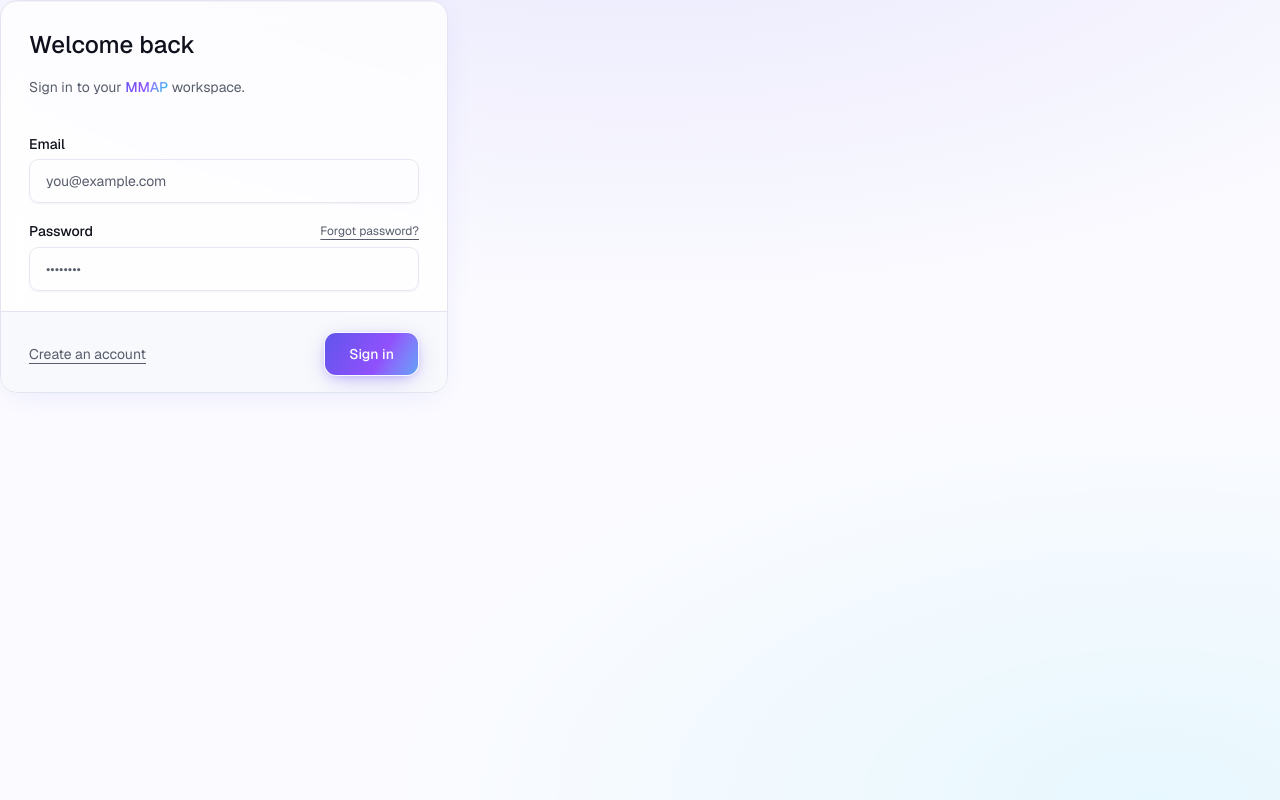
Scenario: <LoginForm /> › offers a verify-email link when the account isn't verified (403)
Type "a@b.com" into the field labelled "Email".
click(224, 181); type("a@b.com")  # box left=29, top=159, right=419, bottom=203
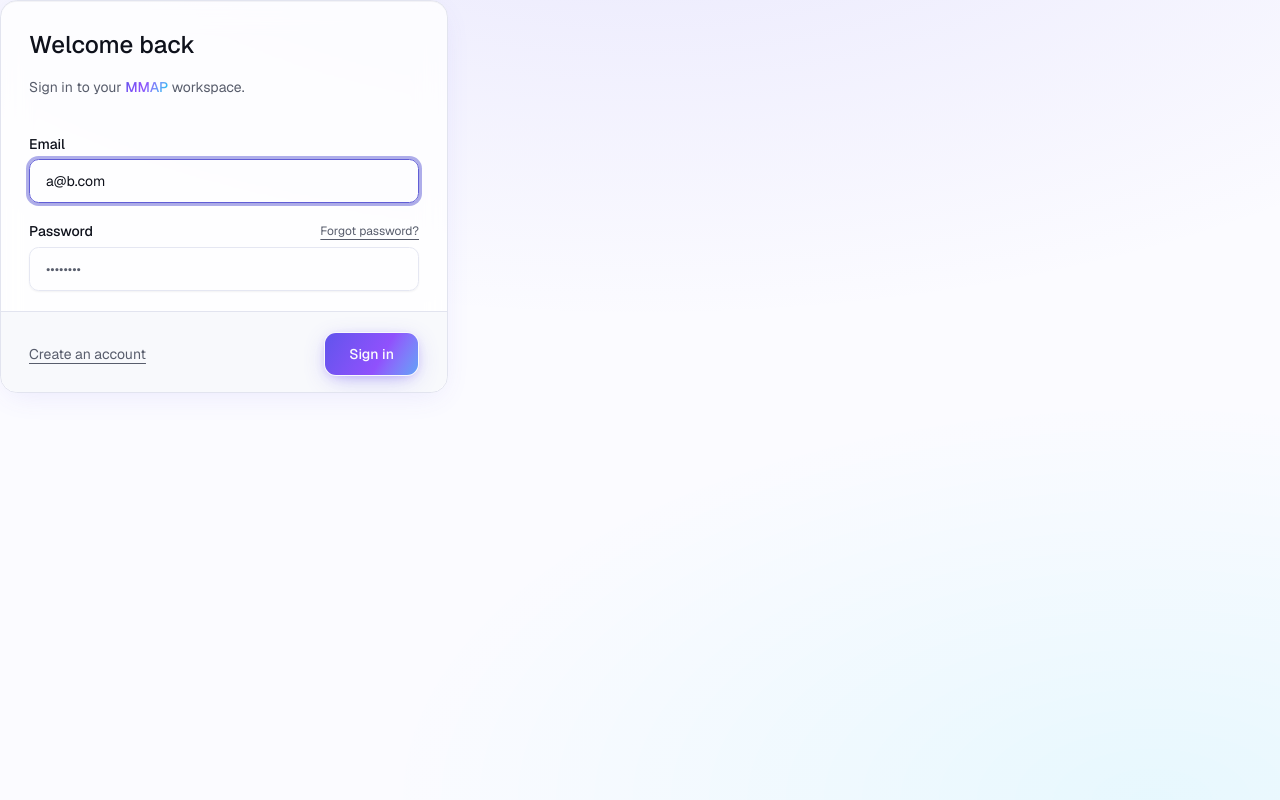
Type "StrongP@ss1" into the password field labelled "Password".
click(224, 269); type("StrongP@ss1")  # box left=29, top=247, right=419, bottom=291
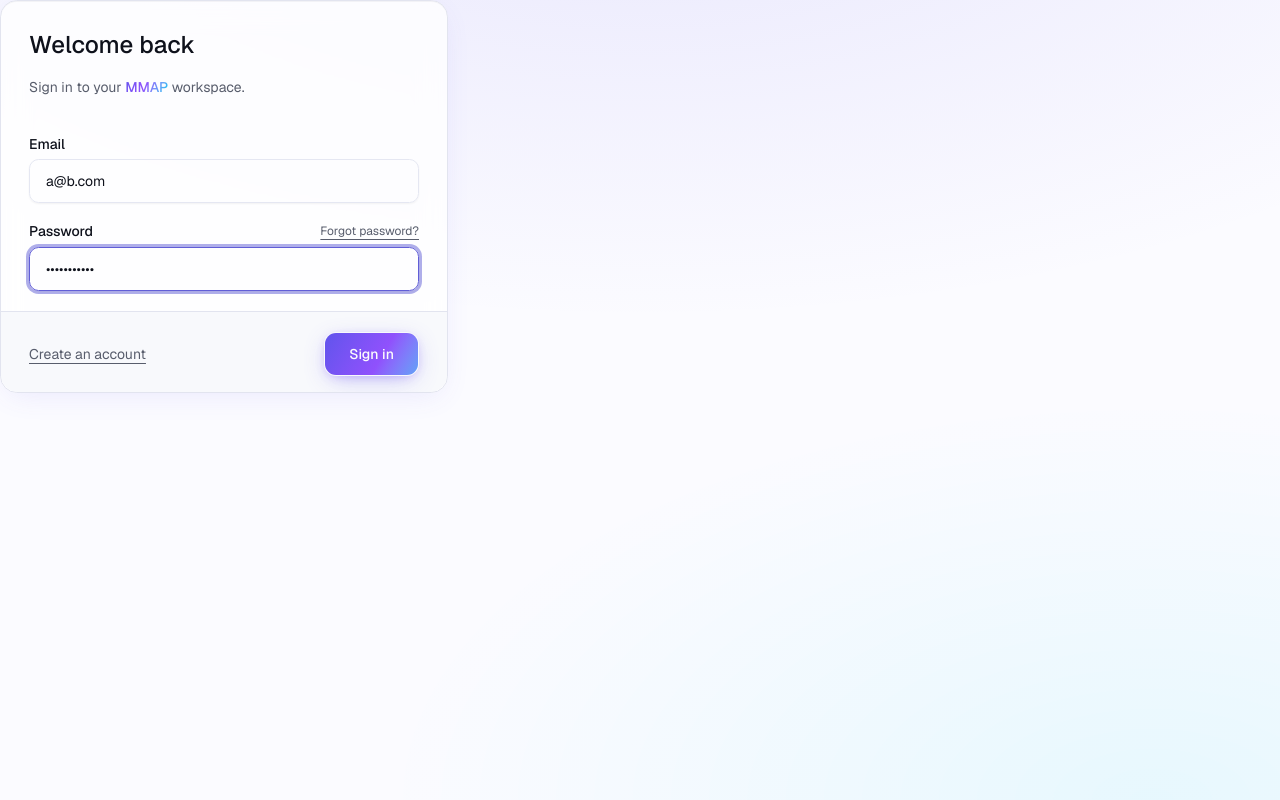
Click the button "Sign in".
click(372, 354)  # box left=324, top=332, right=419, bottom=376
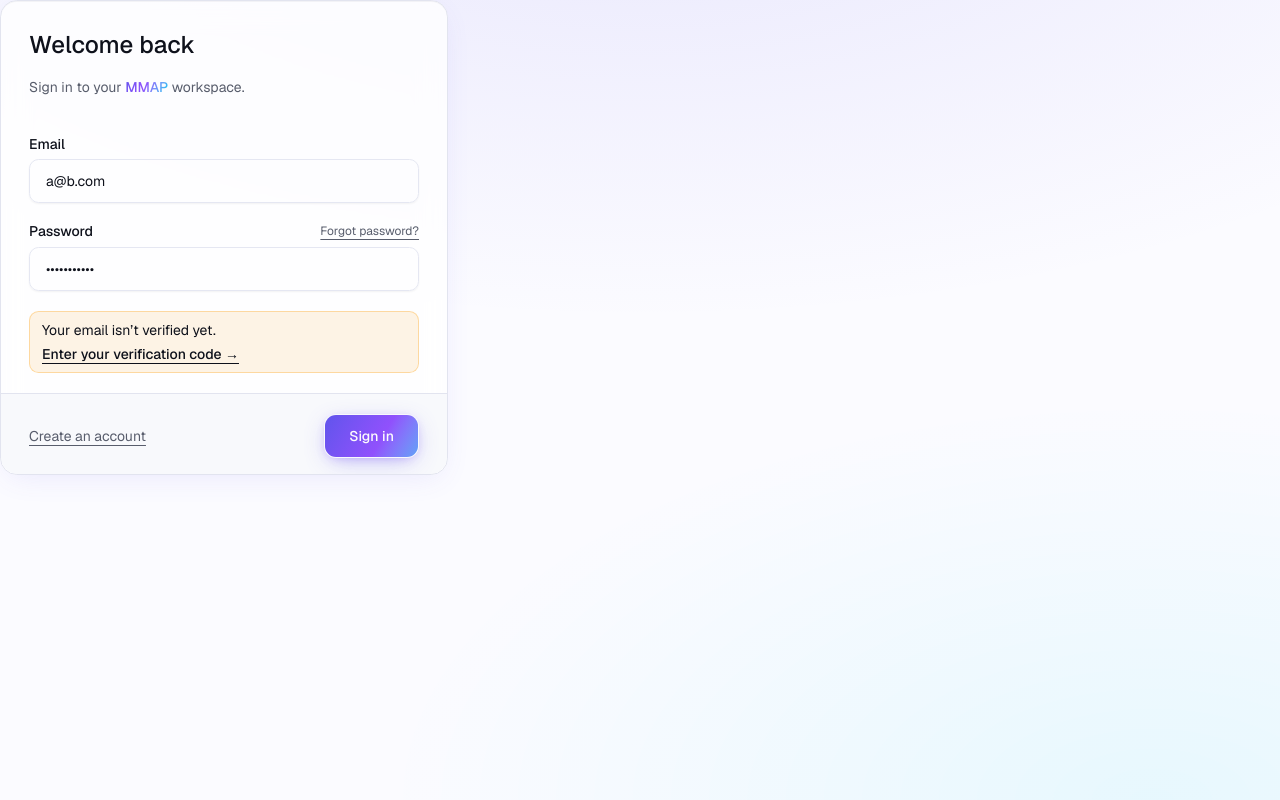
expect the message reads "Your email isn’t verified yet. Enter your verification code →": met, box left=42, top=321, right=216, bottom=339
